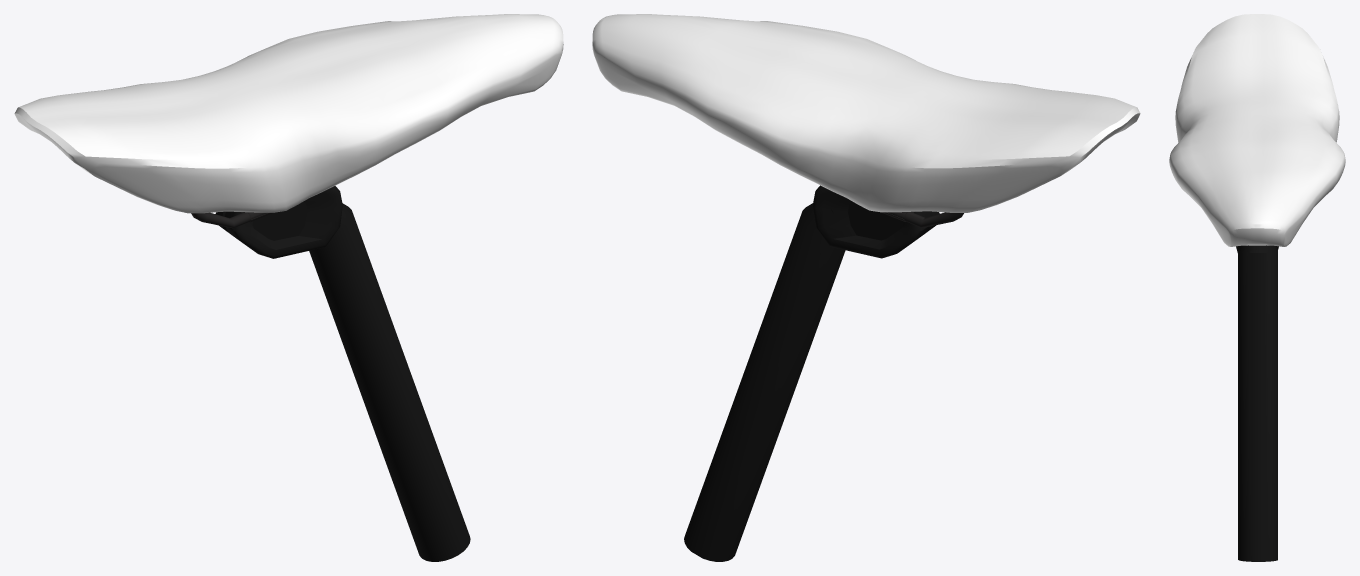
File: Seat_RaceBike.glb
3 views of the same model, side by side, from view 1: azimuth 30°, elevation 25°; view 2: azimuth 150°, elevation 25°; view 3: azimuth 270°, elevation 25° (orthographic). The views are drawn at different scales.
Visible parts, largest first — view 1: SM_Seat_Race, SM_SeatPost_Race; view 2: SM_Seat_Race, SM_SeatPost_Race; view 3: SM_Seat_Race, SM_SeatPost_Race.
Part boxes in pixels (bbox=[...]): SM_Seat_Race: bbox=[14, 14, 563, 213]; SM_SeatPost_Race: bbox=[191, 186, 470, 561]; SM_Seat_Race: bbox=[592, 14, 1140, 212]; SM_SeatPost_Race: bbox=[684, 185, 963, 561]; SM_Seat_Race: bbox=[1169, 14, 1345, 246]; SM_SeatPost_Race: bbox=[1236, 245, 1278, 561].
Bounding box in the file's own units: 0.2482 × 0.2403 × 0.0959.
Materials: 1 (1 with a texture image).
